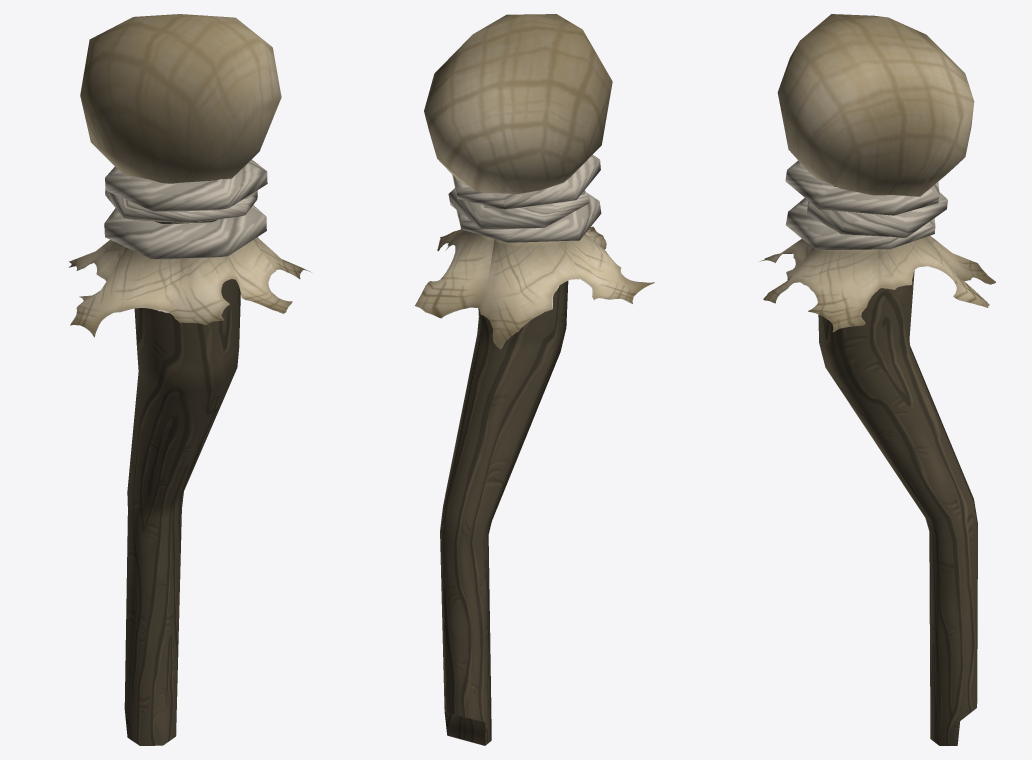
File: Torch.fbx
3 renders of one model, left to right at view 1: azimuth 30°, elevation 25°; view 2: azimuth 150°, elevation 25°; view 3: azimuth 270°, elevation 25°, orthographic. The views are drawn at different scales.
Parts seen in each view (by area): view 1: Torch; view 2: Torch; view 3: Torch.
Part boxes in pixels (x1=…): Torch: x1=69, y1=14, x2=311, y2=745; Torch: x1=415, y1=14, x2=654, y2=745; Torch: x1=760, y1=14, x2=995, y2=745.
Bounding box in the file's own units: 200 × 529 × 209.
